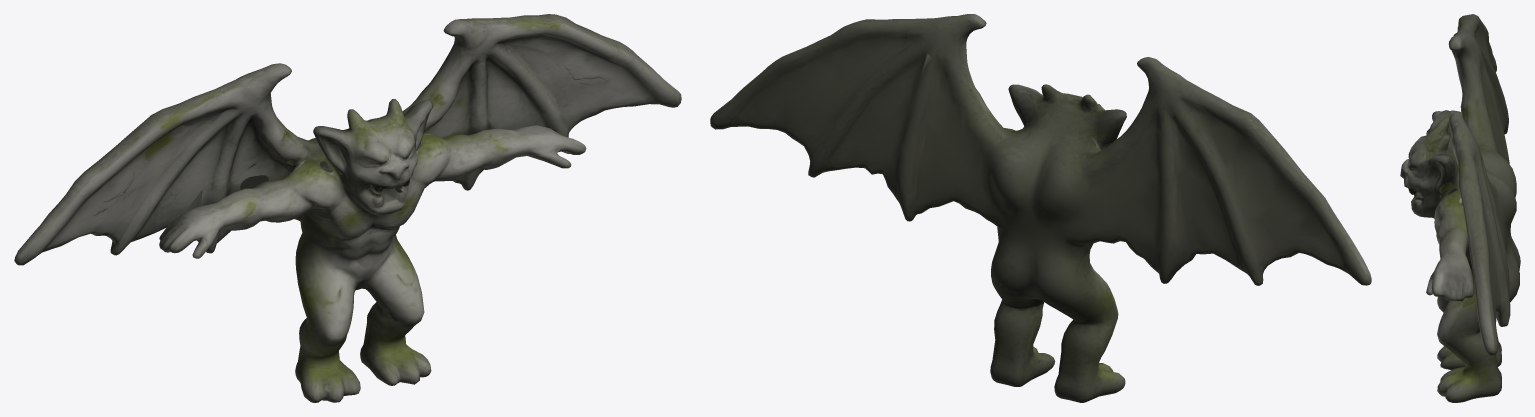
The picture shows the model from 3 angles, left to right: view 1: azimuth 30°, elevation 25°; view 2: azimuth 150°, elevation 25°; view 3: azimuth 270°, elevation 25°; orthographic projection. The views are drawn at different scales.
Visible parts, largest first — view 1: UE_Retopo_LOD1; view 2: UE_Retopo_LOD1; view 3: UE_Retopo_LOD1.
Boxes of the visible parts, box(x1,y1,x2,y2) form: UE_Retopo_LOD1: box(14, 14, 681, 402); UE_Retopo_LOD1: box(710, 14, 1371, 402); UE_Retopo_LOD1: box(1400, 14, 1520, 402).
Size of the model in its own units: 4.77 by 2.37 by 0.8491.
